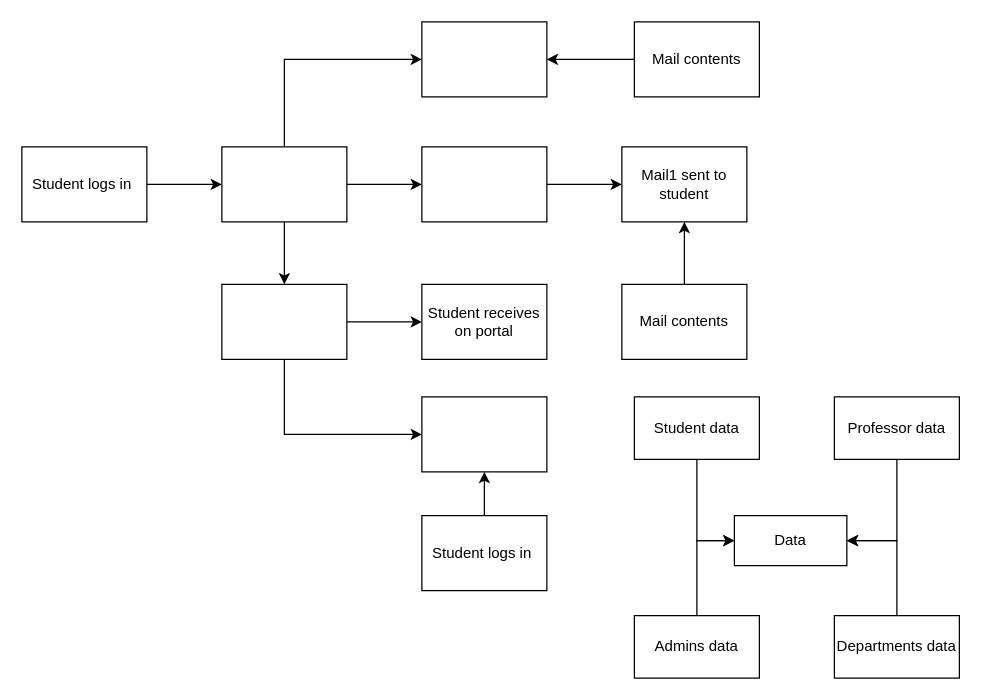
Some shapes in this 981 by 700 pixel diagram are drawn without their labels. The box of each missing label's shape, as (x1, y1, x2, y2) in pixels:
Admin approves: (421, 146, 547, 222)
Admin sends message: (221, 283, 347, 359)
Mail sent to admin: (421, 21, 547, 97)
Mail sent to student: (421, 396, 547, 472)
Student sends no-dues request to admin: (221, 146, 347, 222)
